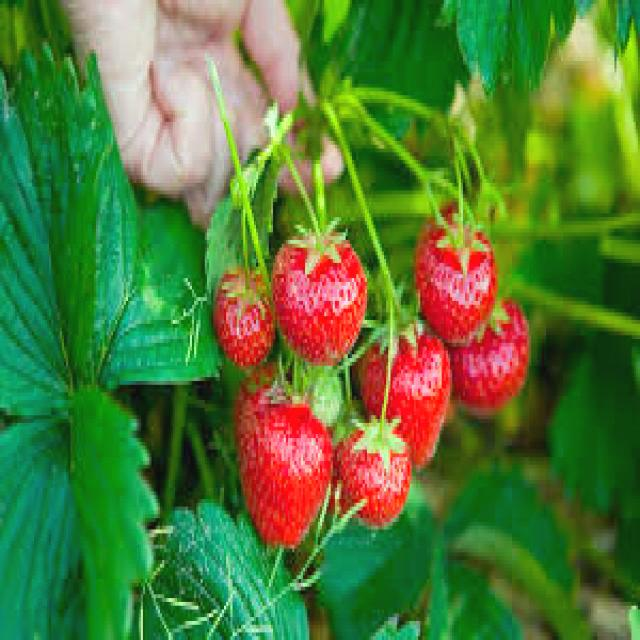ripe: (236, 381, 328, 554), (272, 216, 370, 370), (358, 309, 451, 464), (414, 208, 501, 346), (454, 290, 534, 418), (337, 423, 414, 531), (206, 266, 280, 369)
unripe: (302, 348, 344, 429)
